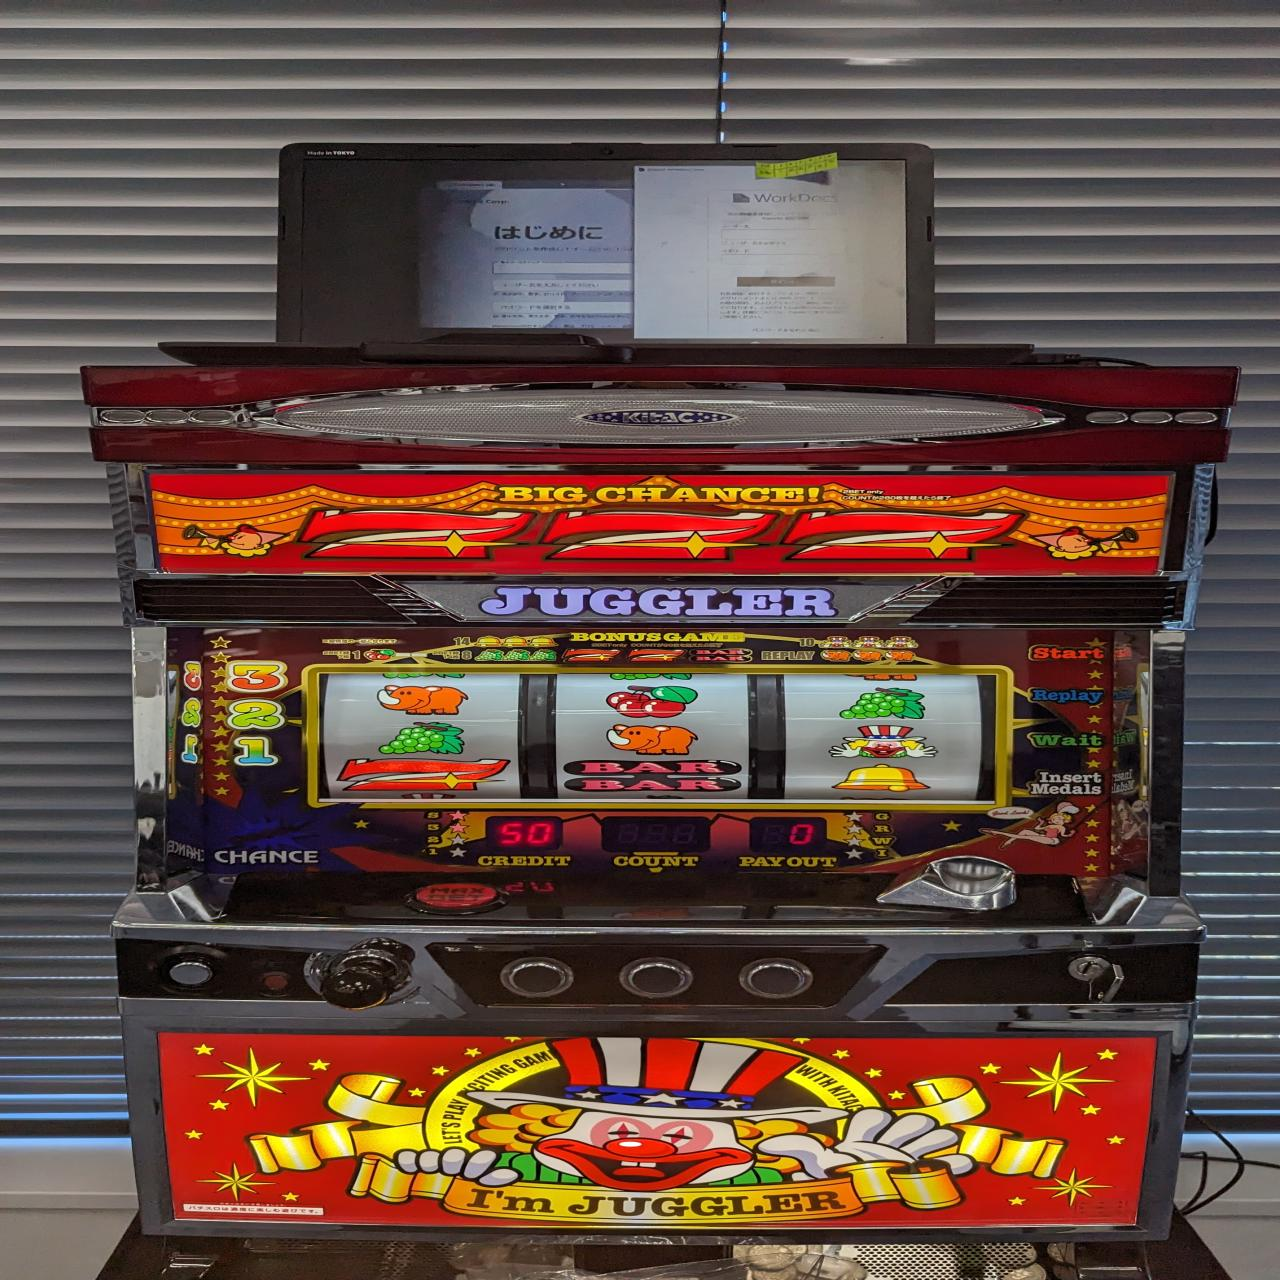7: (335, 756, 513, 794)
Display: (311, 669, 1009, 809)
bar: (564, 758, 742, 794)
bell: (831, 763, 933, 794)
cherry: (605, 685, 694, 719)
clown: (829, 726, 937, 761)
grape: (836, 685, 927, 721), (380, 721, 469, 757)
rhino: (607, 726, 703, 756), (377, 685, 468, 715)
